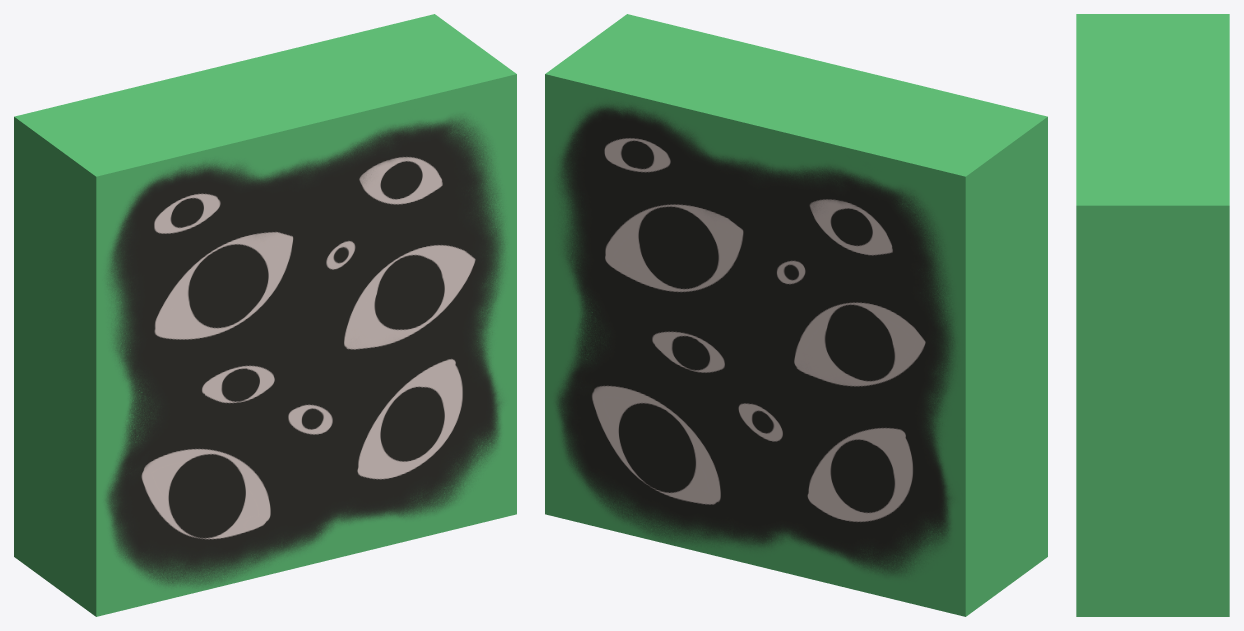
File: Light_Wall_Thick.fbx
3 views of the same model, side by side, from view 1: azimuth 30°, elevation 25°; view 2: azimuth 150°, elevation 25°; view 3: azimuth 270°, elevation 25° (orthographic). The views are drawn at different scales.
Parts seen in each view (by area): view 1: Light_Wall_Thick; view 2: Light_Wall_Thick; view 3: Light_Wall_Thick.
Part boxes in pixels (x1,y1,x2,y2): Light_Wall_Thick: (14, 14, 516, 616); Light_Wall_Thick: (545, 14, 1047, 616); Light_Wall_Thick: (1076, 14, 1229, 616).
Size of the model in its own units: 150 by 150 by 50.7.
Materials: 1 (1 with a texture image).
